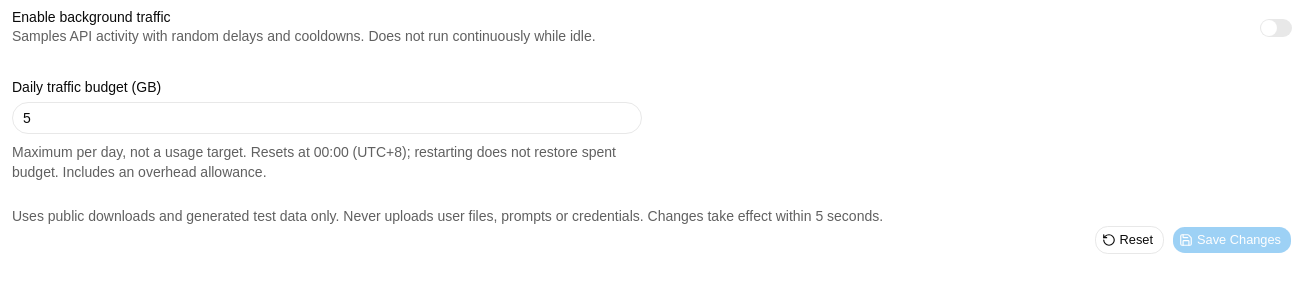
rejects budgets above the cap before sending any mutation
Replace the text in the number field labelled "Daily traffic budget (GB)" with "6" at (327, 118), box [12,102,642,134]
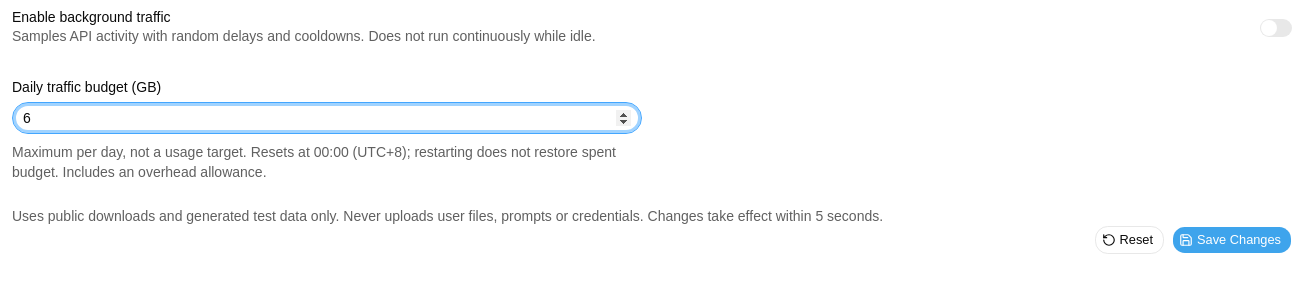
Click the button "Save Changes" at (1232, 240), box [1172,226,1292,254]
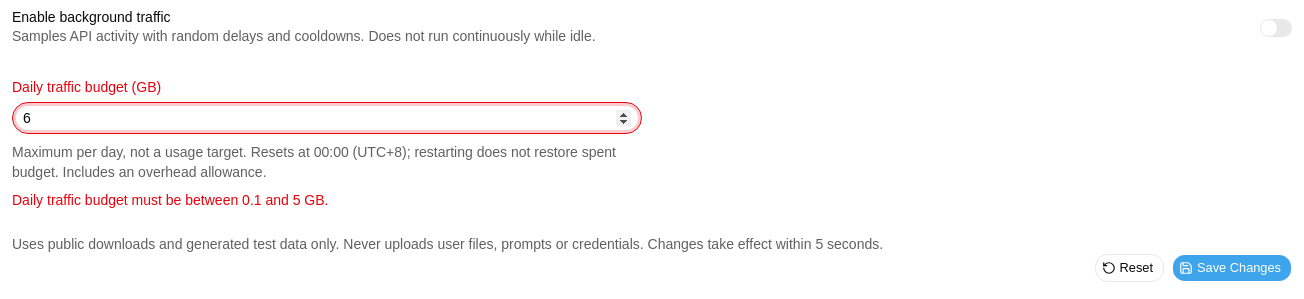
Check: the text "Daily traffic budget must be between 0.1 and 5 GB." is shown, box [12,192,328,208]
